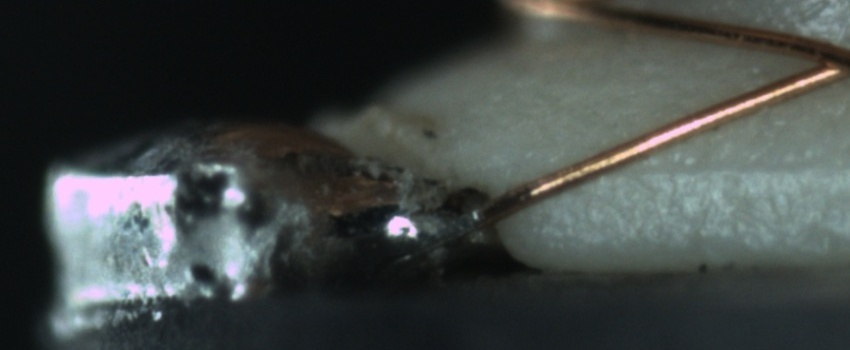CL: (793, 33, 849, 89)
DL: (613, 133, 844, 202)
